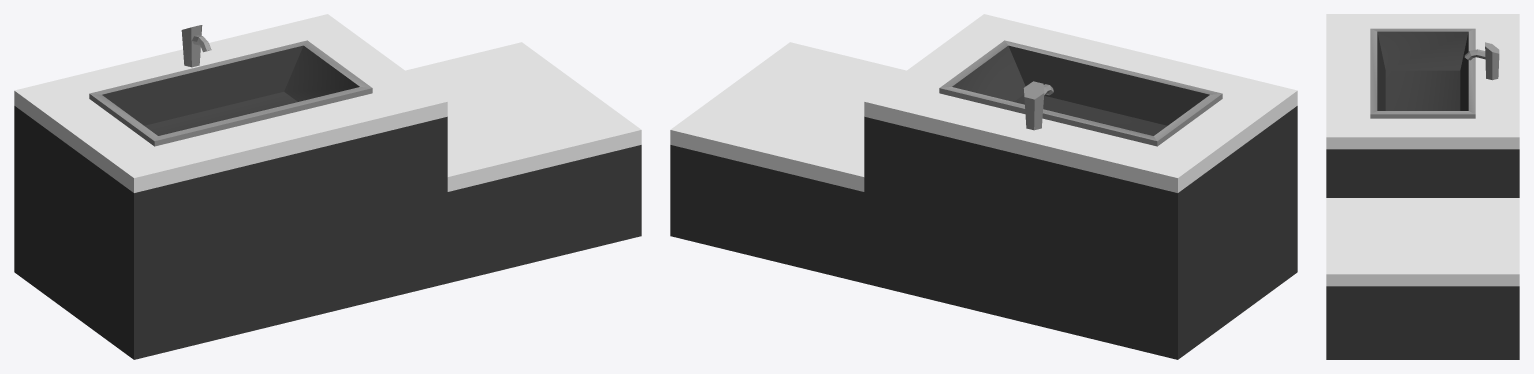
Rendered from bathroom_item_001.glb.
3 views of the same model, side by side, from view 1: azimuth 30°, elevation 25°; view 2: azimuth 150°, elevation 25°; view 3: azimuth 270°, elevation 25° (orthographic). The views are drawn at different scales.
Parts seen in each view (by area): view 1: bathroom_item_001; view 2: bathroom_item_001; view 3: bathroom_item_001.
Part boxes in pixels (x1,y1,x2,y2): bathroom_item_001: [14, 14, 641, 359]; bathroom_item_001: [670, 14, 1297, 359]; bathroom_item_001: [1326, 14, 1519, 359].
Size of the model in its own units: 1.47 by 0.6176 by 0.6026.
Materials: 1 (1 with a texture image).
